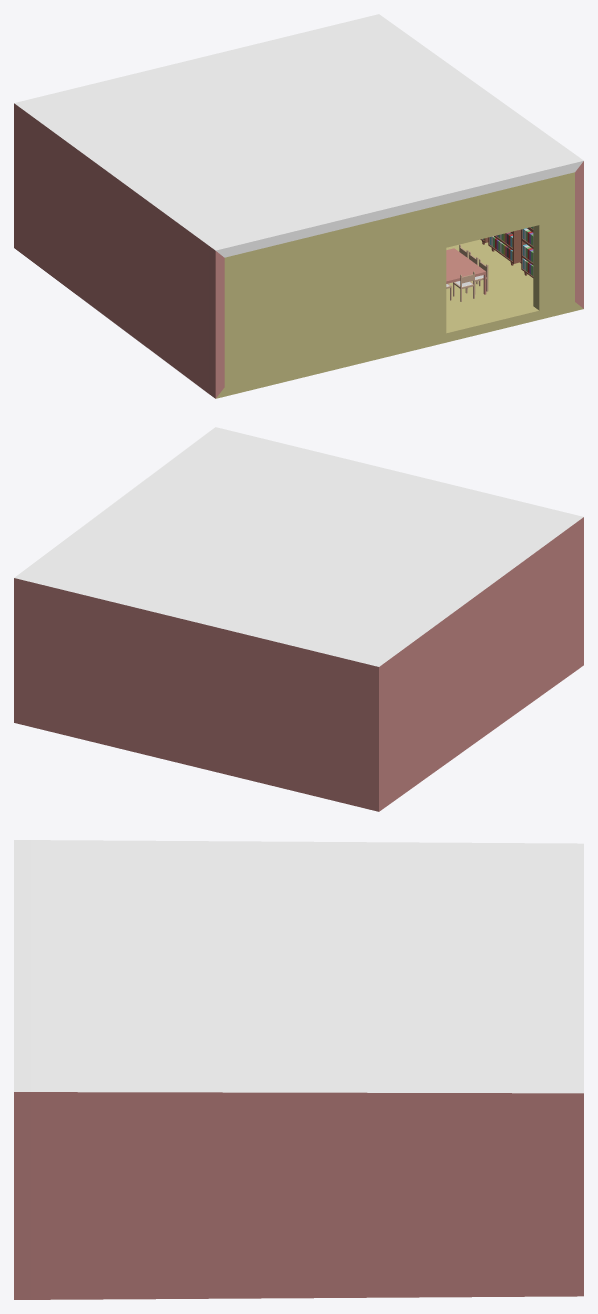
File: Biblioteca.fbx
3 views of the same model, one above another, from view 1: azimuth 30°, elevation 25°; view 2: azimuth 150°, elevation 25°; view 3: azimuth 270°, elevation 25° (orthographic). The views are drawn at different scales.
Parts seen in each view (by area): view 1: Plane, Cube.029, Cube.028, Cube.023; view 2: Plane; view 3: Plane.
Boxes of the visible parts, bbox=[...] form: Plane: bbox=[14, 14, 583, 398]; Cube.029: bbox=[446, 244, 488, 301]; Cube.028: bbox=[488, 229, 521, 265]; Cube.023: bbox=[521, 226, 533, 277]; Plane: bbox=[14, 427, 583, 811]; Plane: bbox=[14, 840, 583, 1299].
Bounding box in the file's own units: 1329 × 511 × 1270.
